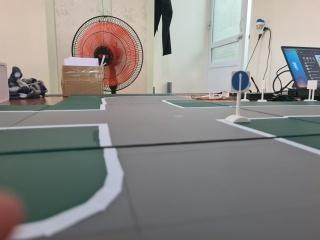straight: (229, 70, 252, 91)
